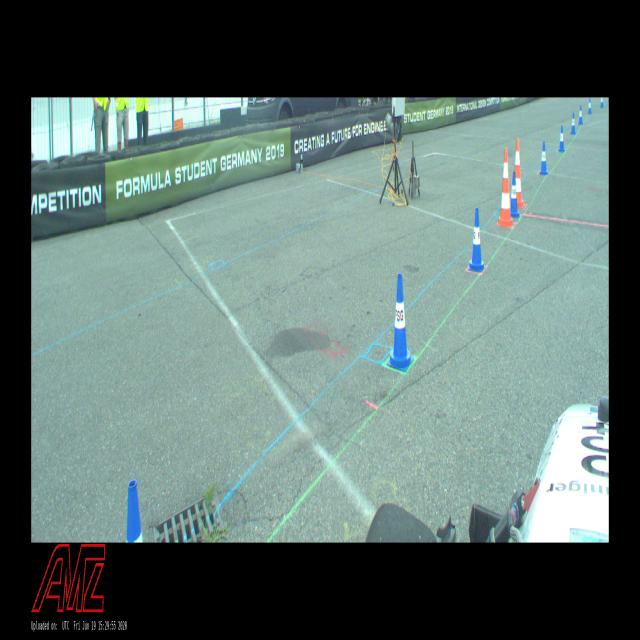blue_cone: (387, 274, 413, 372), (468, 208, 485, 272), (126, 479, 143, 543), (510, 172, 520, 218), (540, 142, 548, 175), (558, 126, 565, 152), (571, 113, 576, 134), (578, 105, 583, 125), (588, 97, 592, 114), (600, 98, 604, 107)
large_orange_cone: (497, 147, 516, 229), (515, 138, 525, 208)
